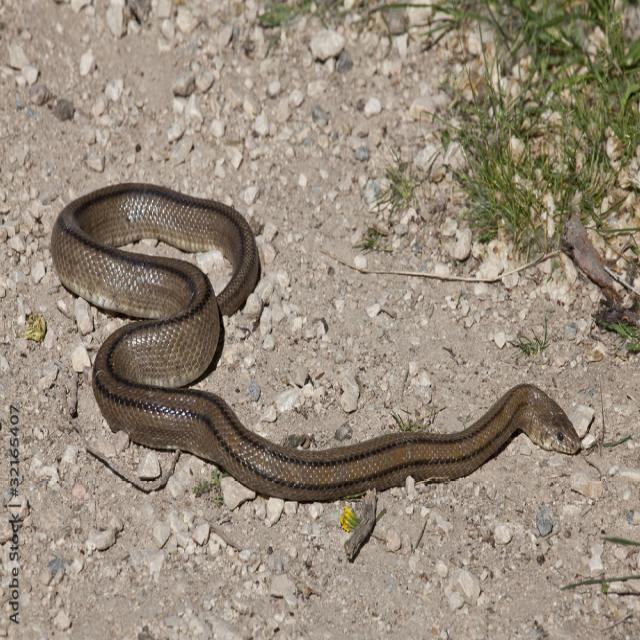Snake: (46, 144, 633, 526)
